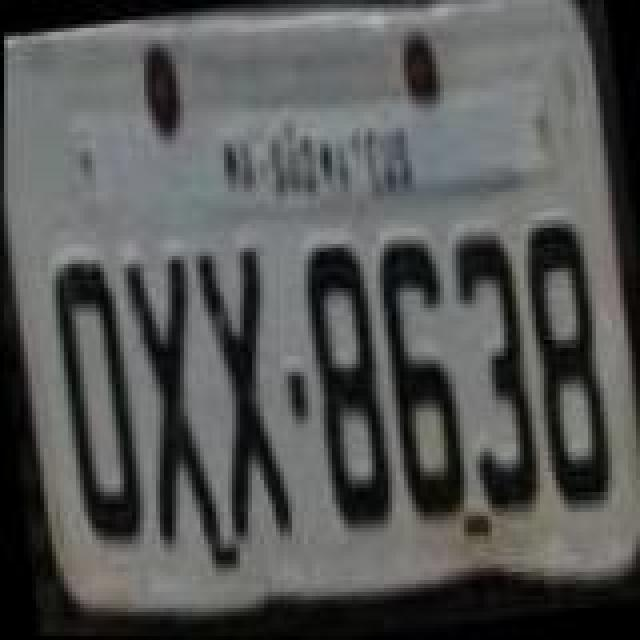3: (442, 218, 554, 522)
6: (368, 224, 476, 528)
8: (288, 238, 400, 542), (514, 212, 626, 516)
O: (40, 250, 152, 558)
X: (110, 248, 226, 564), (182, 238, 298, 554)
